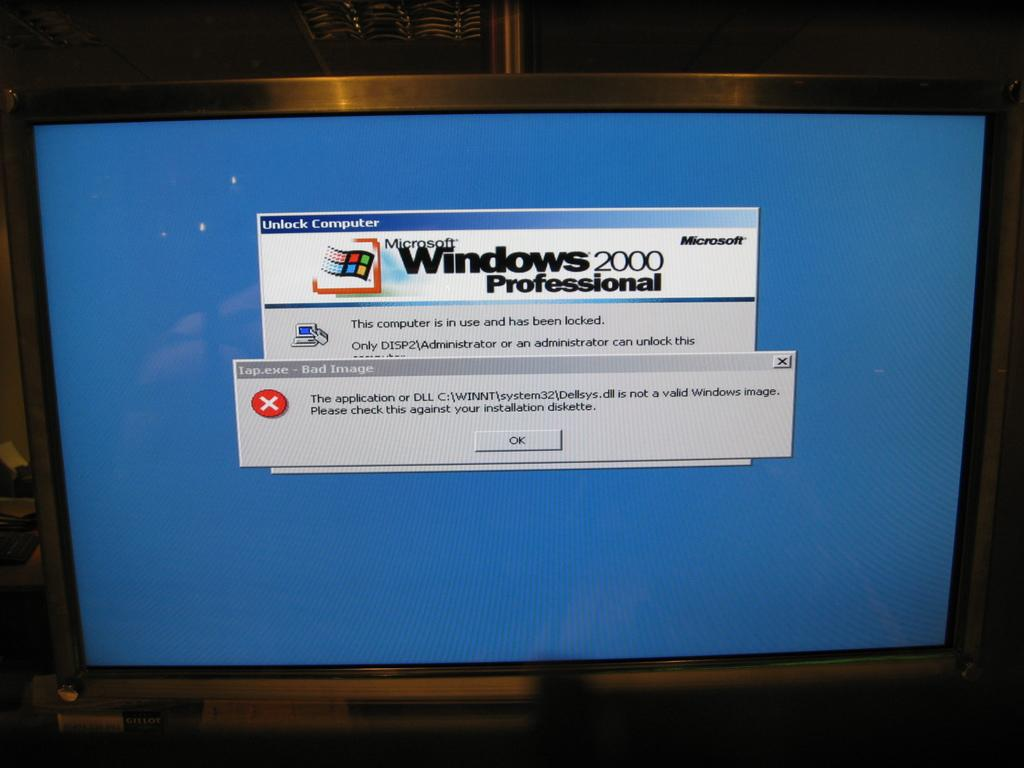Computer-monitor: (0, 38, 1010, 767)
